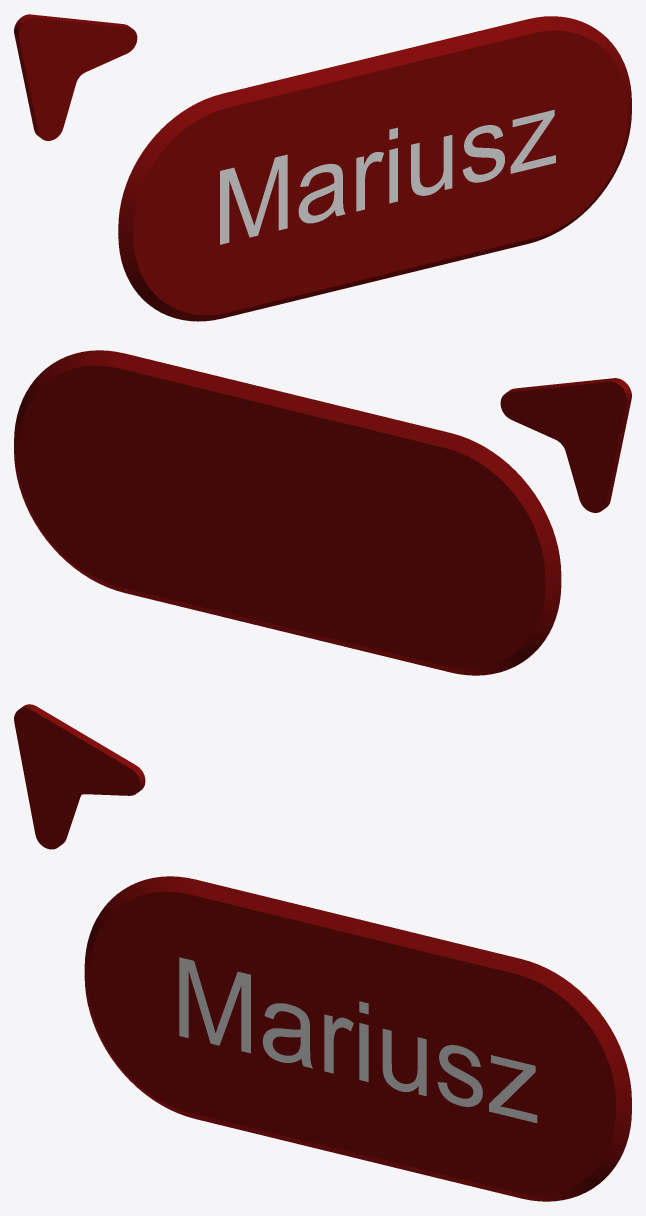
Rendered from grey-cursor-transformed.glb.
3 renders of one model, top to bottom at view 1: azimuth 30°, elevation 25°; view 2: azimuth 150°, elevation 25°; view 3: azimuth 330°, elevation 25°, orthographic. The views are drawn at different scales.
Visible parts, largest first — view 1: button.003, mariusz, red-cursor.001; view 2: button.003, red-cursor.001; view 3: button.003, mariusz, red-cursor.001.
Part boxes in pixels (<box>): button.003: <box>118,16,631,321</box>; mariusz: <box>220,109,555,244</box>; red-cursor.001: <box>14,14,137,140</box>; button.003: <box>14,350,561,675</box>; red-cursor.001: <box>500,378,631,512</box>; button.003: <box>84,876,631,1201</box>; mariusz: <box>179,957,537,1122</box>; red-cursor.001: <box>14,704,145,849</box>.
Size of the model in its own units: 0.2682 by 0.1421 by 0.0217.
